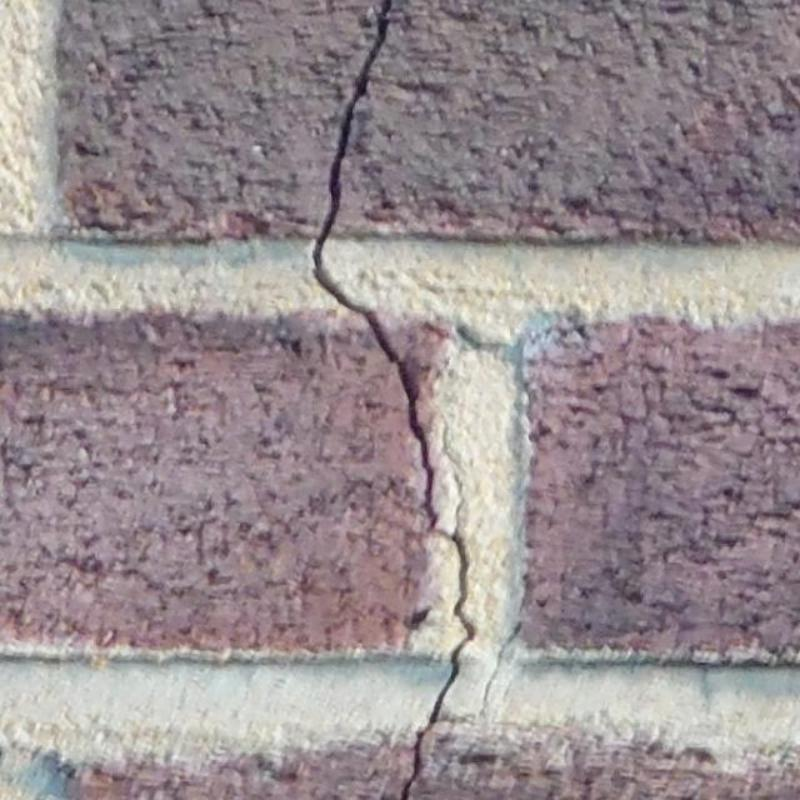crack: (313, 1, 437, 531), (398, 526, 476, 799), (480, 621, 522, 714), (442, 414, 464, 530)
